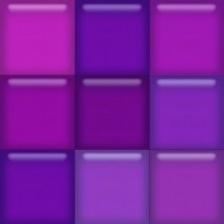purple: (78, 0, 149, 148)
